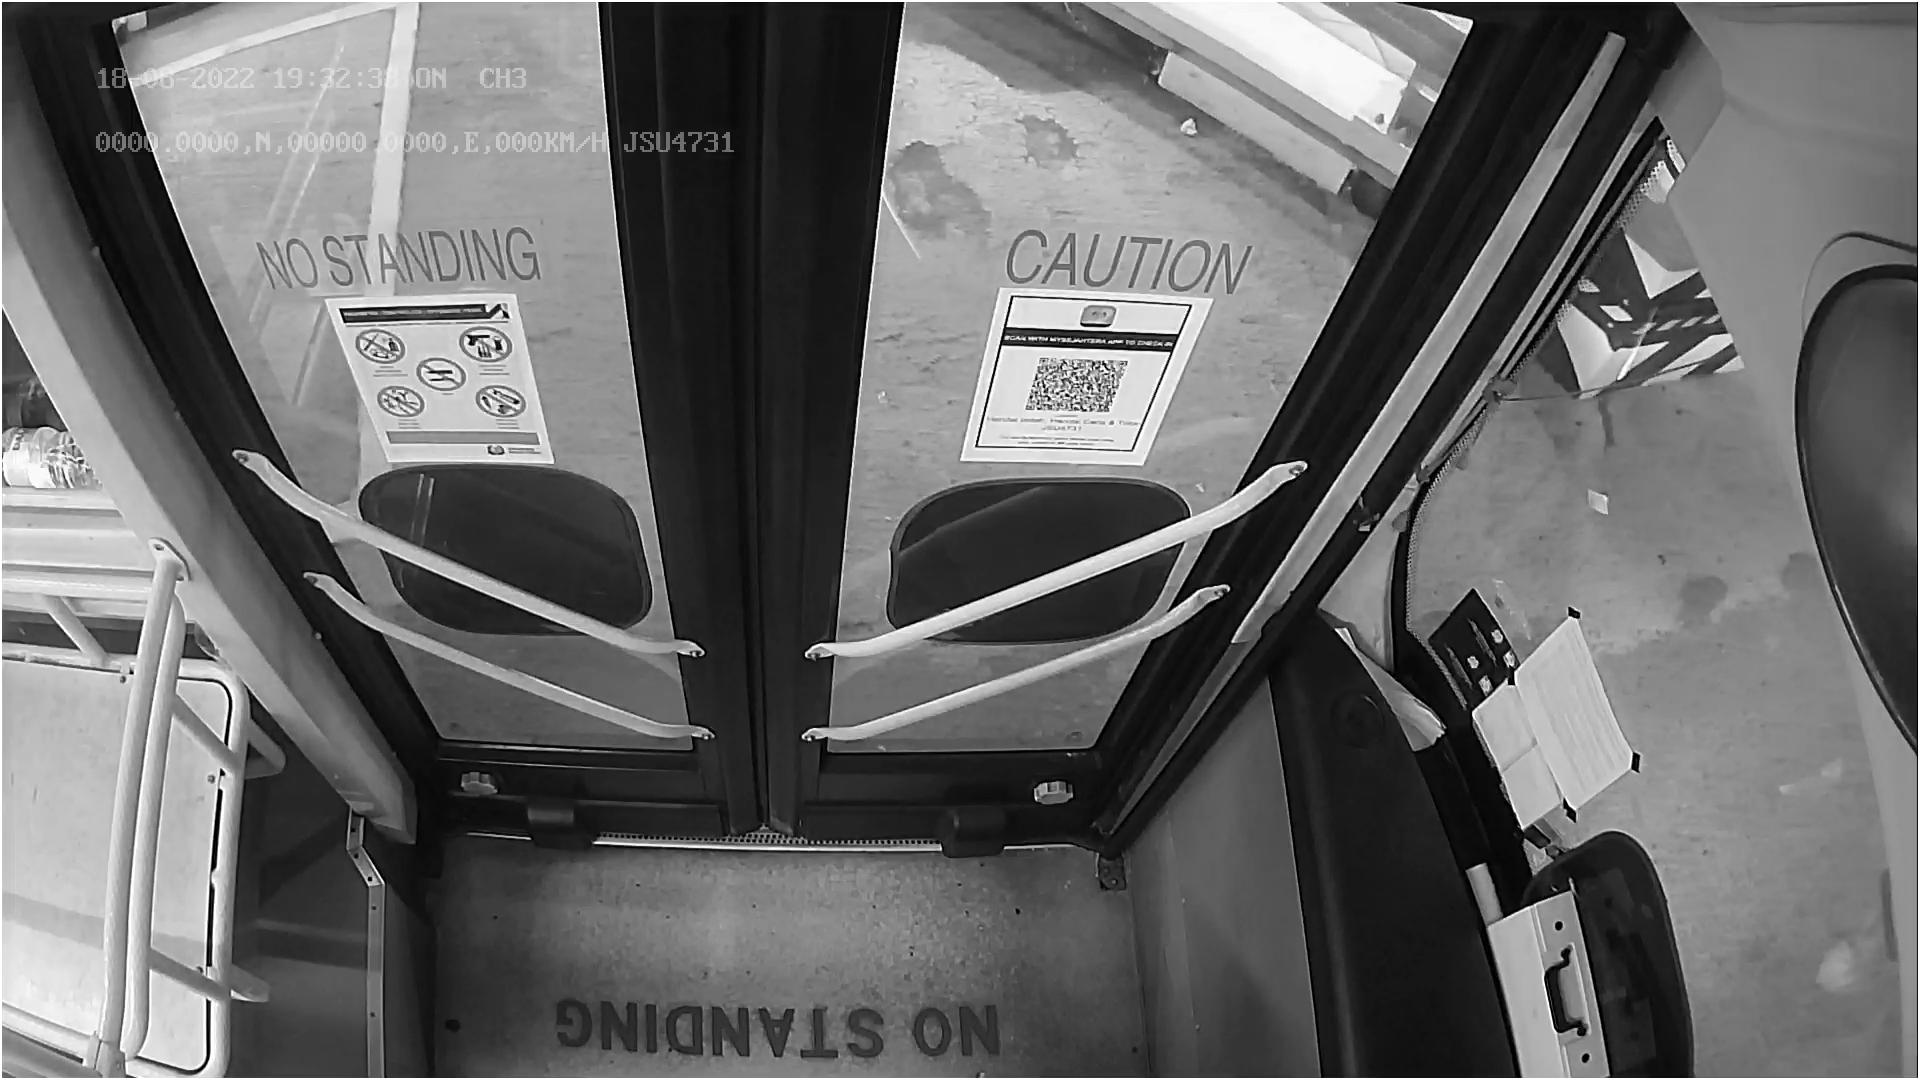close: (128, 0, 1457, 160)
